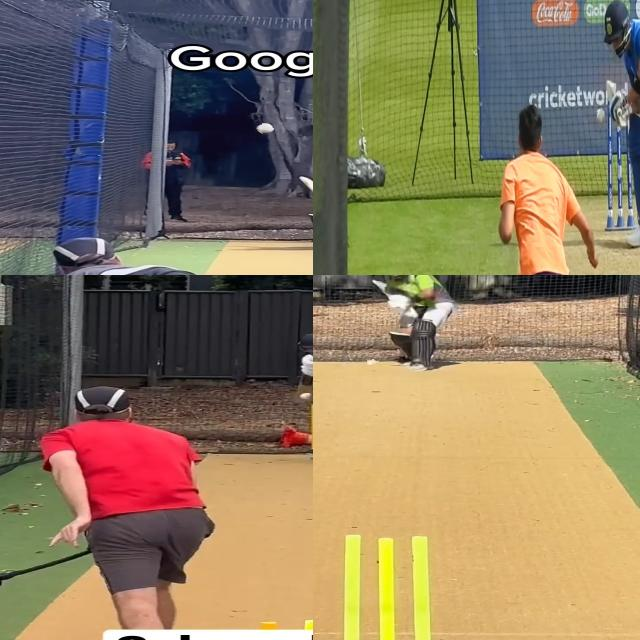Cricket ball: (594, 106, 607, 128), (256, 123, 276, 135), (366, 359, 380, 367), (299, 393, 312, 399)
Stumps: (326, 534, 450, 640)
